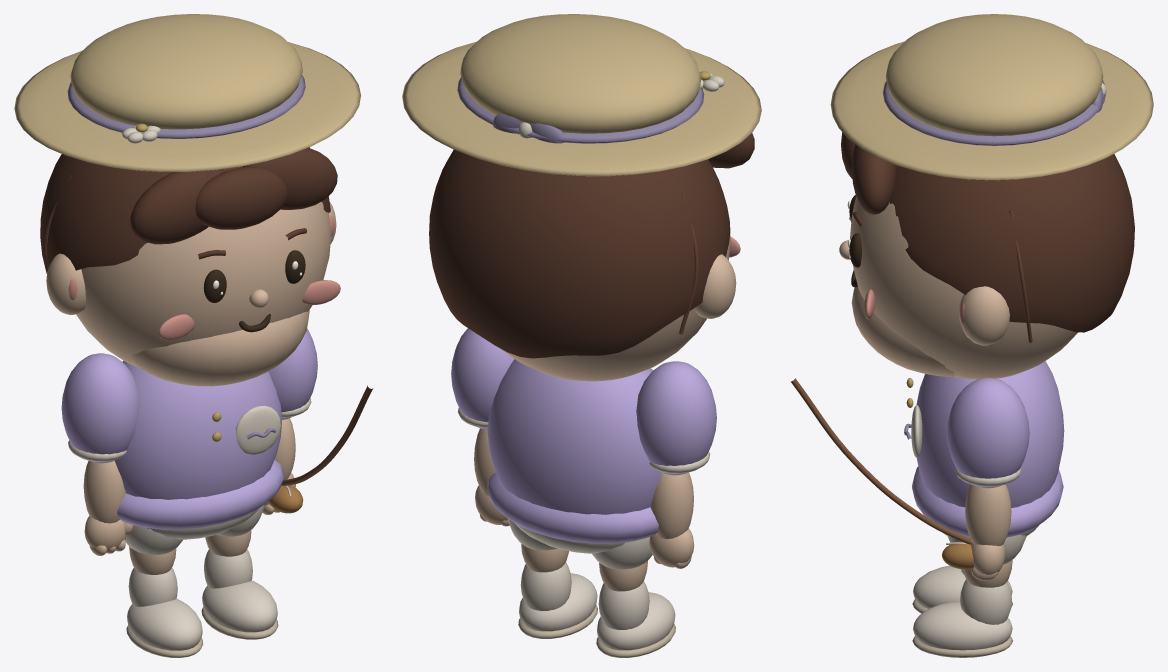
File: cozy-character.glb
3 views of the same model, side by side, from view 1: azimuth 30°, elevation 25°; view 2: azimuth 150°, elevation 25°; view 3: azimuth 270°, elevation 25° (orthographic). The views are drawn at different scales.
Visible parts, largest first — view 1: Bob side strand, Hat daisy center, Rounded cotton body, Rounded shoulder sleeve L, Rounded shoe sole R, Rounded shoe sole L, Bare warm neck, Rounded shoulder sleeve R, Soft forearm L, Cotton shorts leg L, Oatmeal sock R, Oatmeal sock L (+7 smaller); view 2: Bob side strand, Hat daisy center, Rounded cotton body, Rounded shoulder sleeve L, Rounded shoulder sleeve R, Rounded shoe sole L, Rounded shoe sole R, Soft forearm L, Cotton shorts leg L, Oatmeal sock R, Oatmeal sock L, Cotton shorts leg R (+4 smaller); view 3: Bob side strand, Hat daisy center, Rounded cotton body, Rounded shoulder sleeve R, Rounded shoe sole R, Soft forearm R, Rounded shoe sole L, Oatmeal sock R, Little bamboo fishing rod, Cotton shorts leg R, Little thumb R, Bare warm neck (+2 smaller).
Part boxes in pixels (left/top/right/bottom): Bob side strand: left=40, top=147, right=340, bottom=386; Hat daisy center: left=14, top=14, right=360, bottom=171; Rounded cotton body: left=115, top=360, right=283, bottom=529; Rounded shoulder sleeve L: left=61, top=353, right=139, bottom=463; Rounded shoe sole R: left=201, top=580, right=278, bottom=639; Rounded shoe sole L: left=126, top=598, right=203, bottom=657; Bare warm neck: left=147, top=405, right=281, bottom=539; Rounded shoulder sleeve R: left=268, top=328, right=317, bottom=419; Soft forearm L: left=83, top=461, right=125, bottom=523; Cotton shorts leg L: left=125, top=525, right=182, bottom=574; Oatmeal sock R: left=204, top=549, right=252, bottom=588; Oatmeal sock L: left=128, top=567, right=177, bottom=606; Bob side strand: left=429, top=133, right=754, bottom=381; Hat daisy center: left=402, top=14, right=761, bottom=176; Rounded cotton body: left=487, top=359, right=661, bottom=543; Rounded shoulder sleeve L: left=636, top=361, right=716, bottom=475; Rounded shoulder sleeve R: left=451, top=328, right=514, bottom=430; Rounded shoe sole L: left=596, top=592, right=675, bottom=657; Rounded shoe sole R: left=518, top=573, right=597, bottom=638; Soft forearm L: left=650, top=472, right=693, bottom=539; Cotton shorts leg L: left=592, top=537, right=652, bottom=591; Oatmeal sock R: left=520, top=562, right=571, bottom=610; Oatmeal sock L: left=598, top=581, right=649, bottom=629; Cotton shorts leg R: left=507, top=518, right=568, bottom=572; Bob side strand: left=839, top=132, right=1134, bottom=379; Hat daisy center: left=830, top=14, right=1153, bottom=180; Rounded cotton body: left=912, top=361, right=1064, bottom=537; Rounded shoulder sleeve R: left=947, top=377, right=1029, bottom=488; Rounded shoe sole R: left=912, top=601, right=1012, bottom=657; Soft forearm R: left=965, top=484, right=1011, bottom=545; Rounded shoe sole L: left=912, top=565, right=1012, bottom=613; Oatmeal sock R: left=960, top=579, right=1011, bottom=624; Little bamboo fishing rod: left=790, top=378, right=971, bottom=544; Cotton shorts leg R: left=948, top=534, right=1026, bottom=587; Little thumb R: left=970, top=538, right=1005, bottom=580; Bare warm neck: left=904, top=378, right=1038, bottom=536.
Bounding box in the file's own units: 0.63 × 1.16 × 0.6415.
